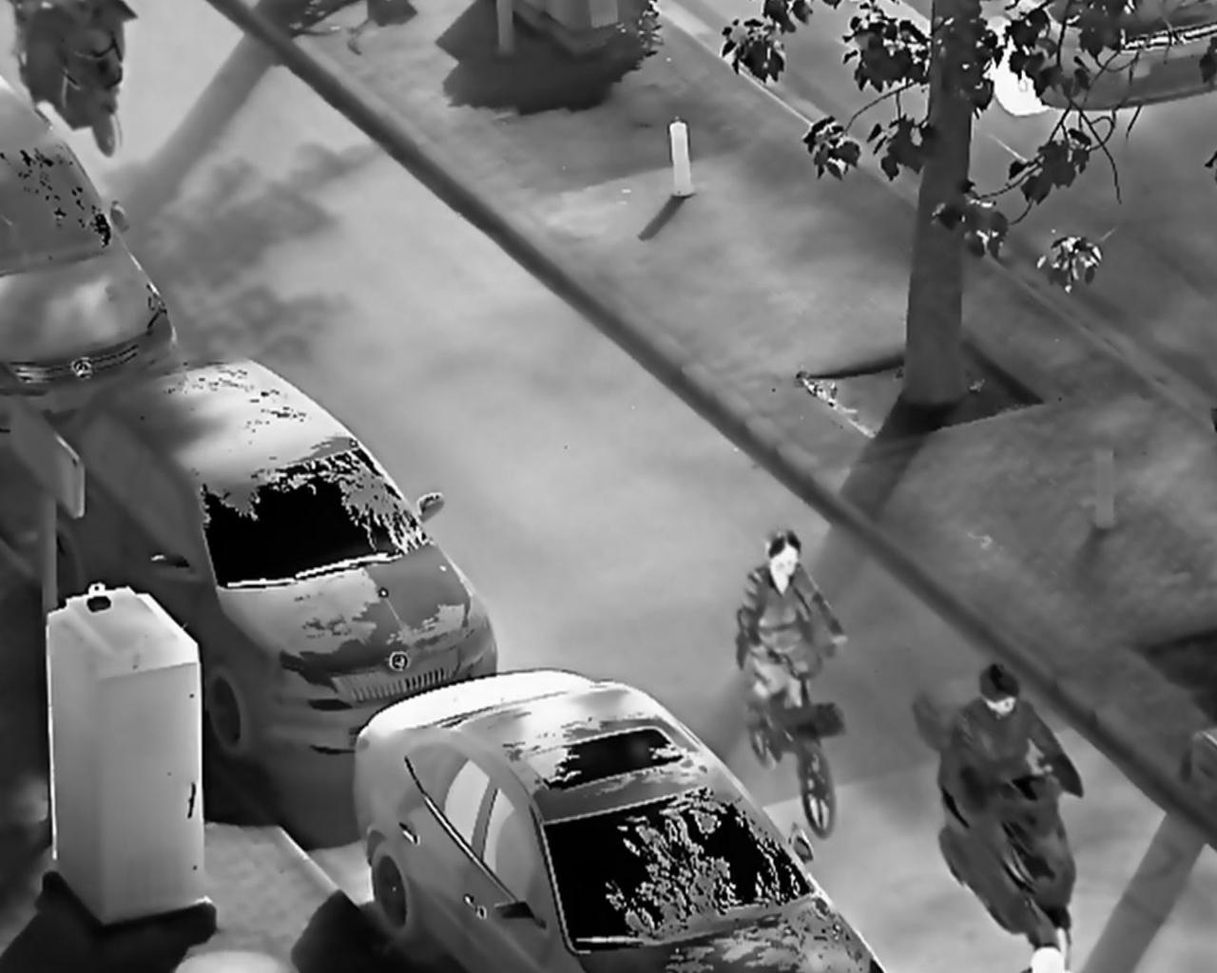person: (734, 525, 853, 773), (946, 662, 1092, 819)
